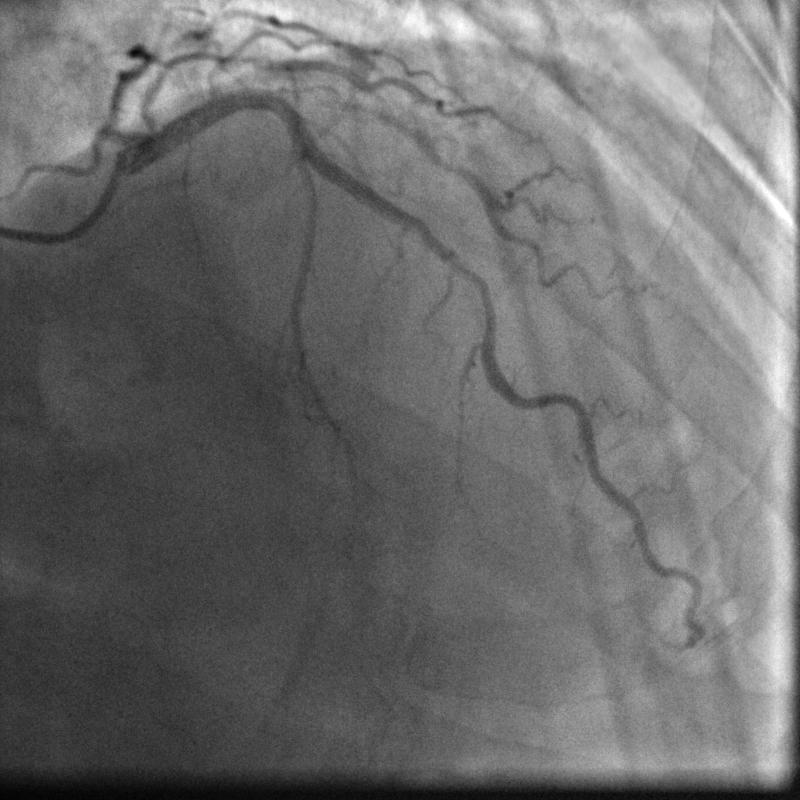Stenosis: (433, 232, 500, 325)
